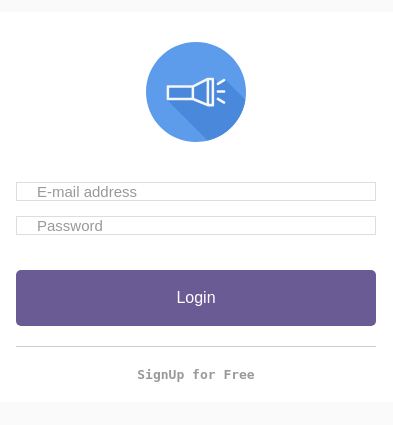
login › test button with empty inputs
This screenshot has width=393, height=425.
Click the button with test id "login-button" at point(196, 298), box left=16, top=270, right=376, bottom=326
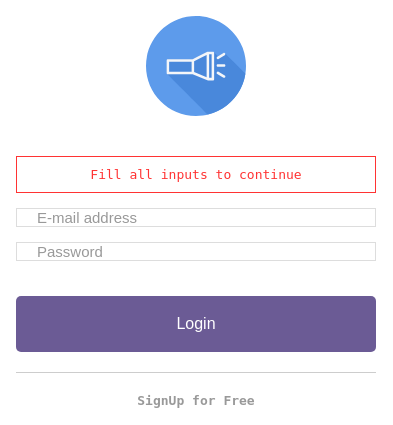
Check: the text with test id "login-error-msg" reads "Fill all inputs to continue", box left=90, top=167, right=302, bottom=182
